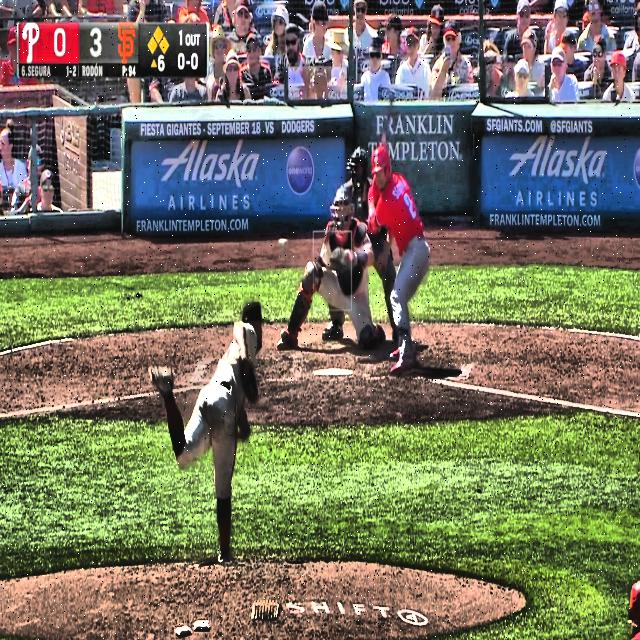baseball: (278, 238, 288, 248)
